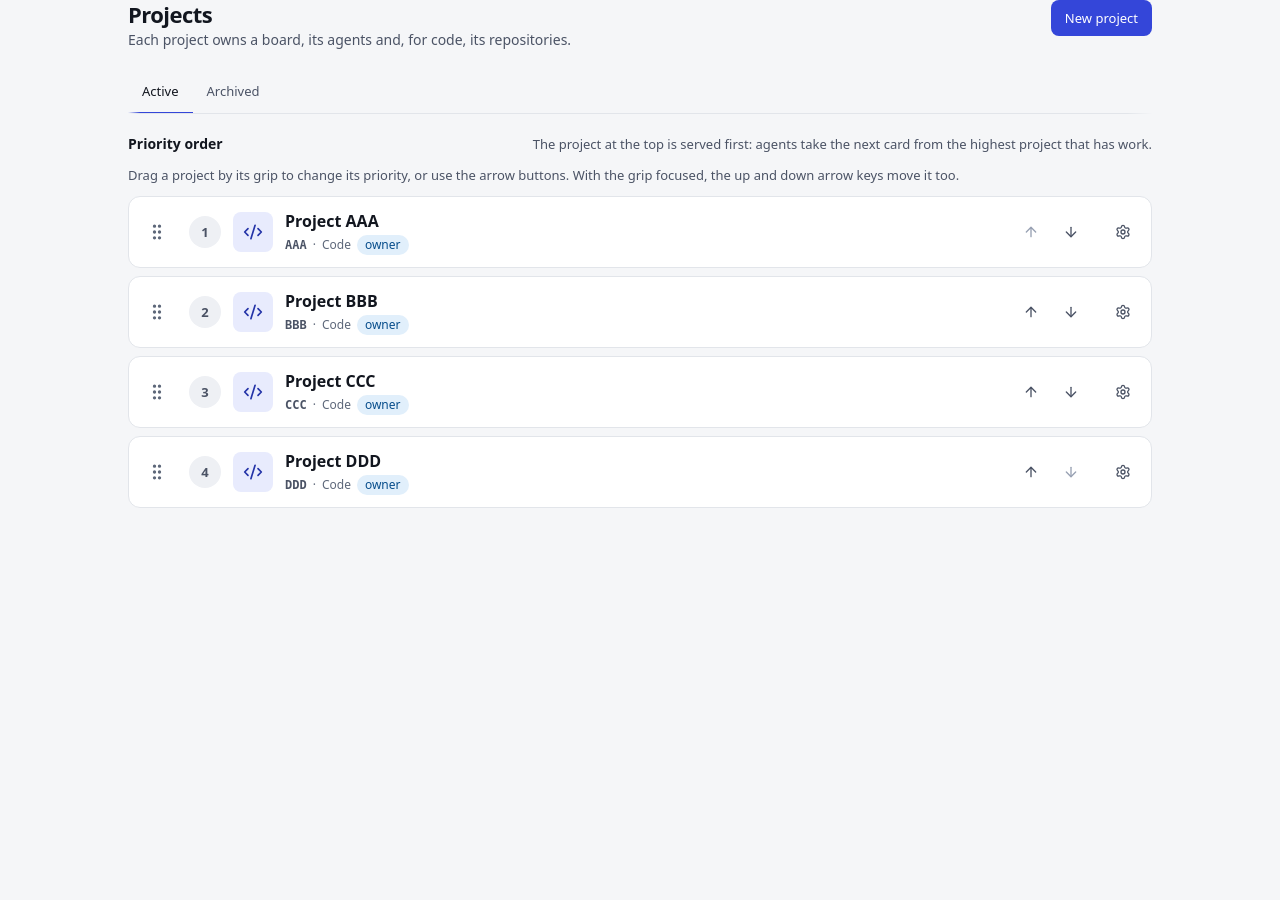
Test: New project › offers the project workflows by name, never the internal bugfix workflow
Click the button "New project" at (1101, 18), box [1051,0,1152,36]
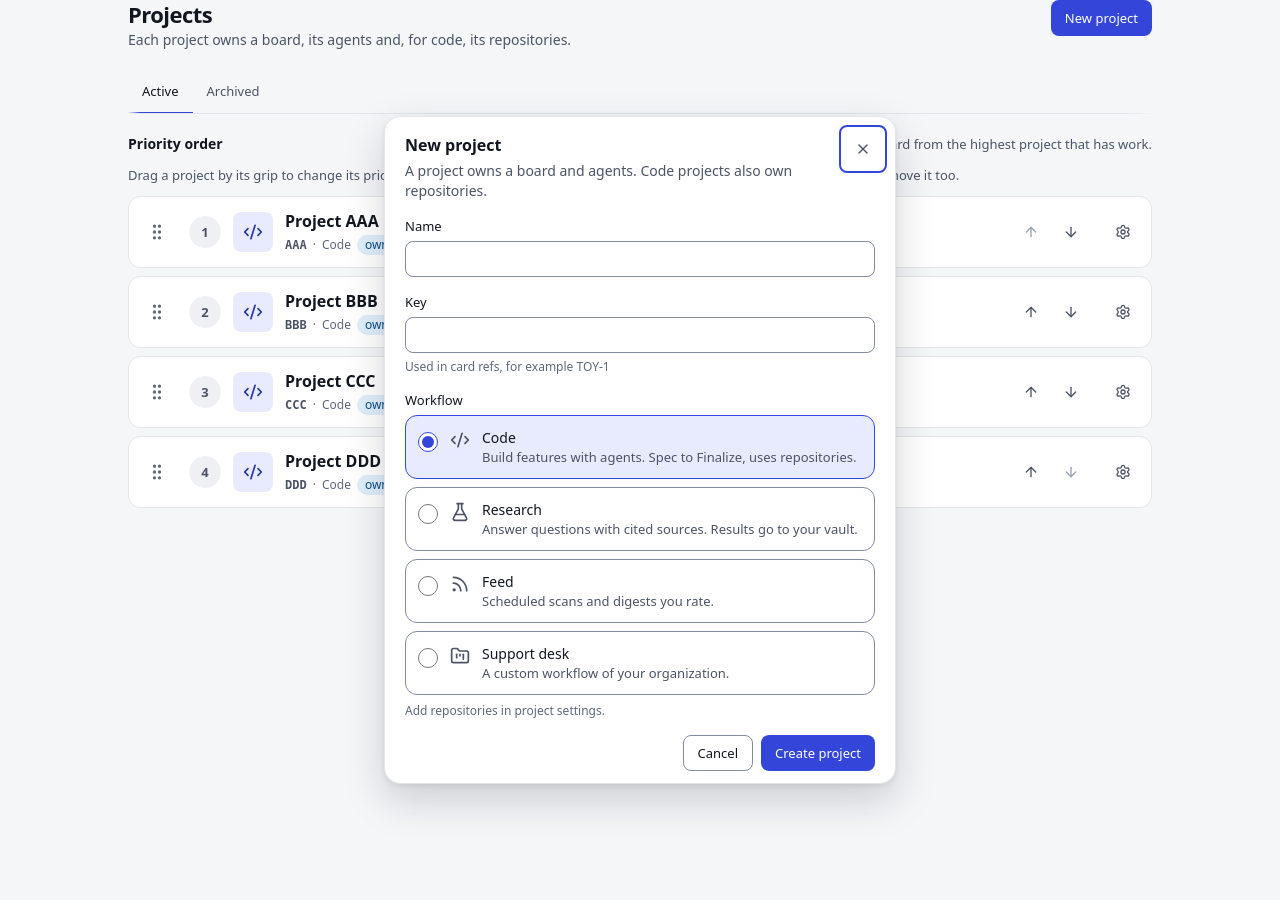
Expected: the text "Support desk" is shown, [482,644,569,663]
Expected: the text "A custom workflow of your organization." is shown, [482,664,729,682]
